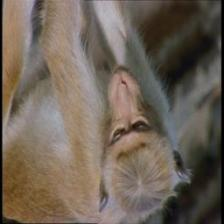monkey: (78, 57, 189, 223)
